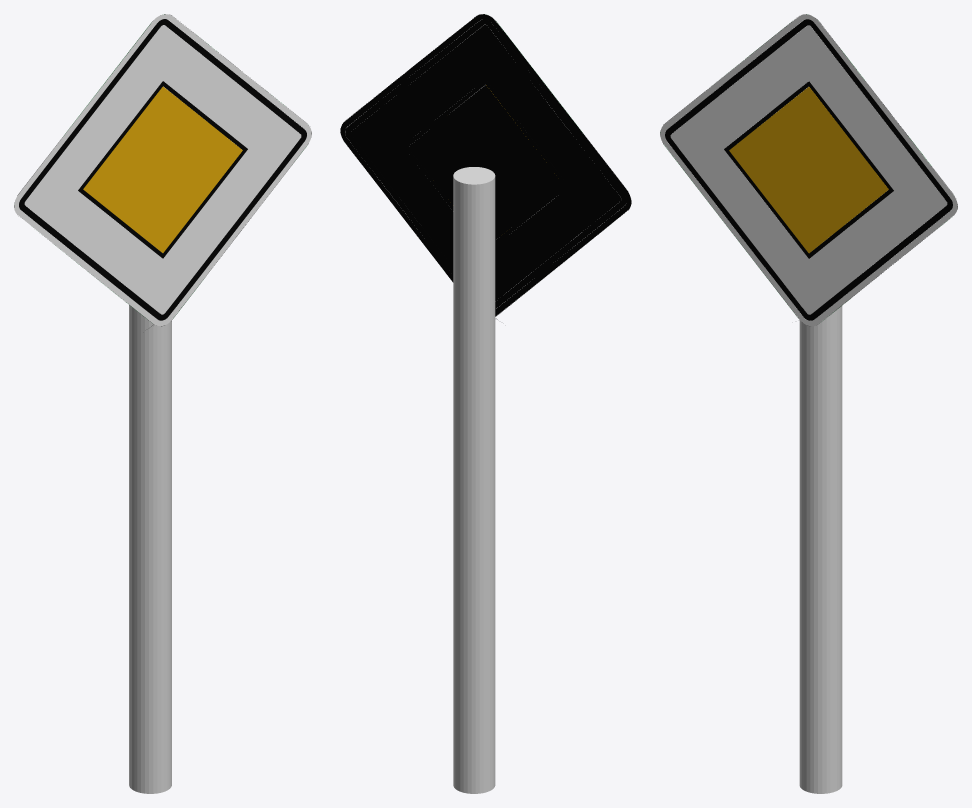
The model's file is Preference.dae.
3 views of the same model, side by side, from view 1: azimuth 30°, elevation 25°; view 2: azimuth 150°, elevation 25°; view 3: azimuth 330°, elevation 25° (orthographic). The views are drawn at different scales.
Visible parts, largest first — view 1: path1847, Cylinder; view 2: path1847, Cylinder; view 3: path1847, Cylinder.
Part boxes in pixels (box(x1,y1,x2,y2)): path1847: box(14, 14, 311, 326); Cylinder: box(129, 289, 171, 793); path1847: box(340, 14, 631, 319); Cylinder: box(453, 167, 495, 793); path1847: box(660, 14, 957, 326); Cylinder: box(799, 306, 842, 793).
Size of the model in its own units: 0.1 by 0.0134 by 0.2501.
